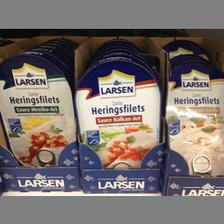Fisch: (72, 58, 160, 170), (1, 51, 76, 166), (165, 62, 223, 176)
